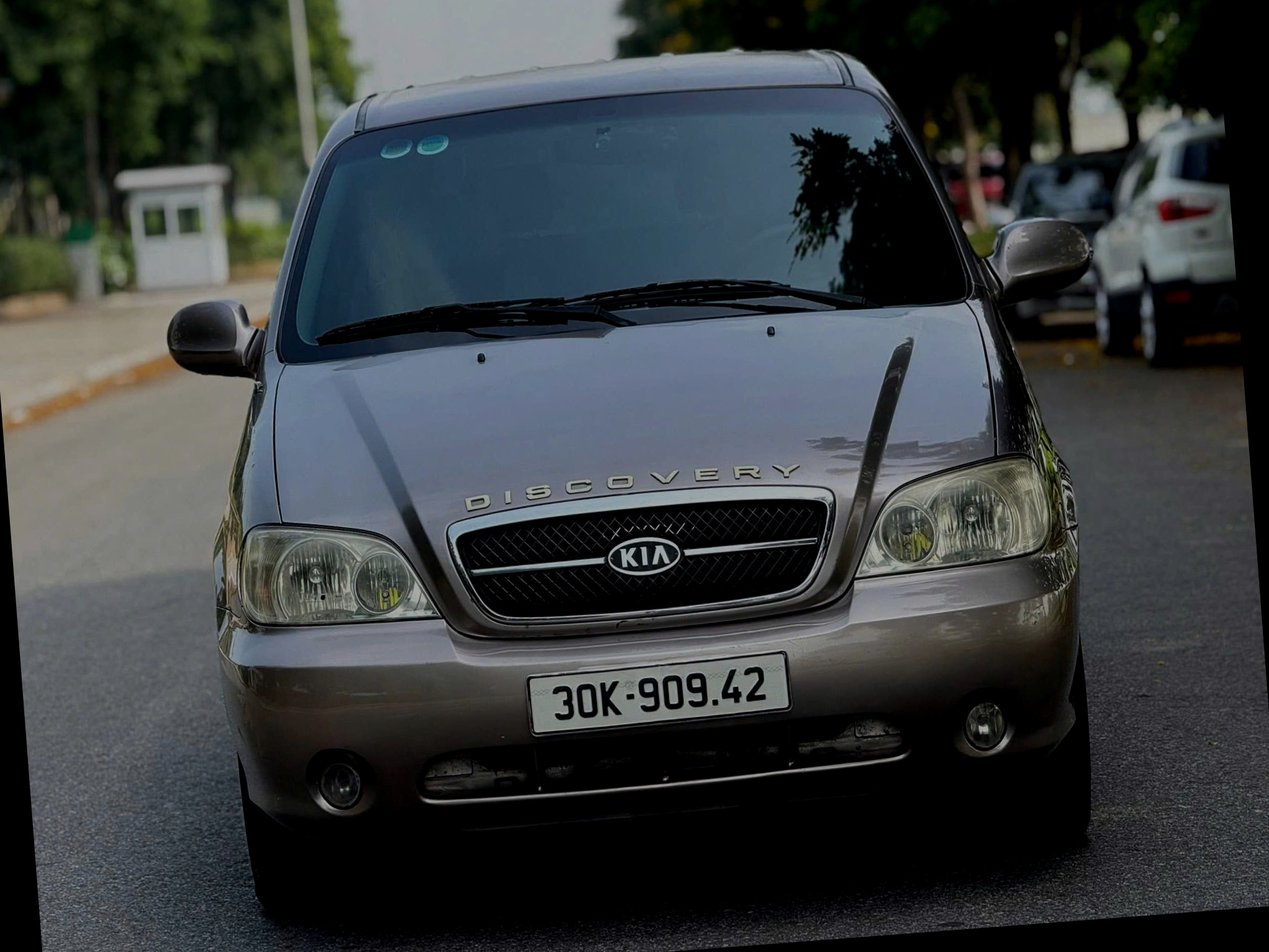Bien-so: (531, 651, 795, 730)
